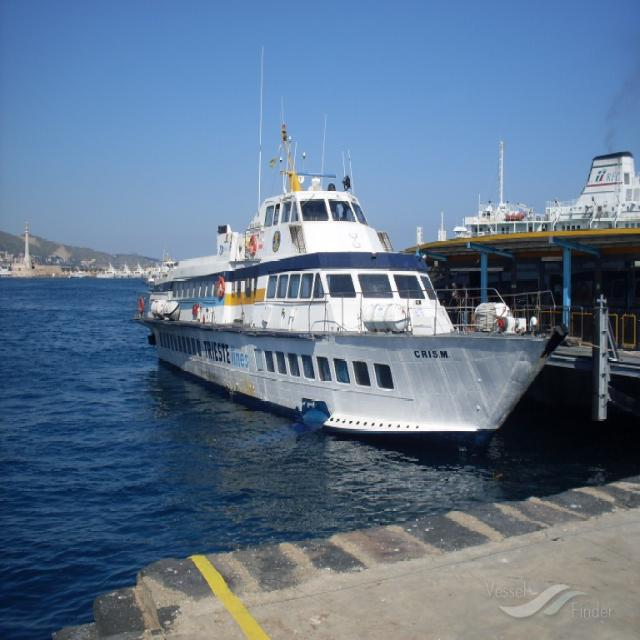Passenger Ship: (138, 120, 564, 442)
